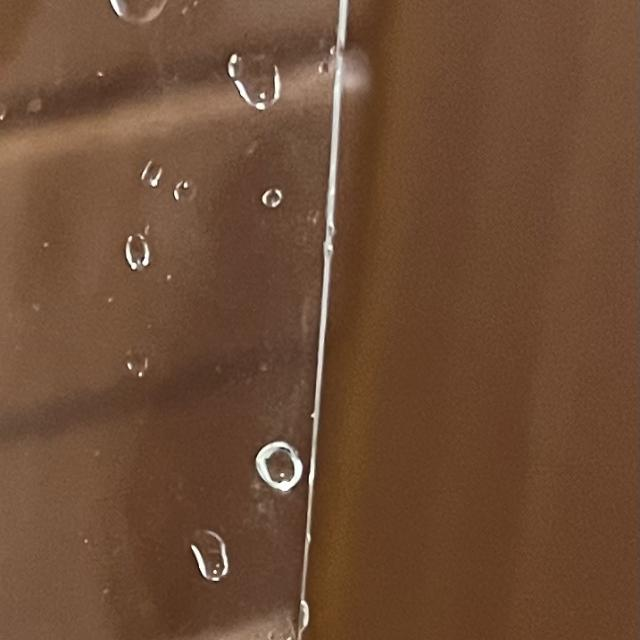raindrop: (217, 29, 287, 124), (180, 526, 248, 614), (246, 440, 304, 500), (102, 0, 185, 26), (161, 172, 208, 215), (115, 230, 162, 268), (130, 143, 170, 185), (254, 172, 290, 212), (118, 351, 158, 384), (311, 50, 329, 90)
